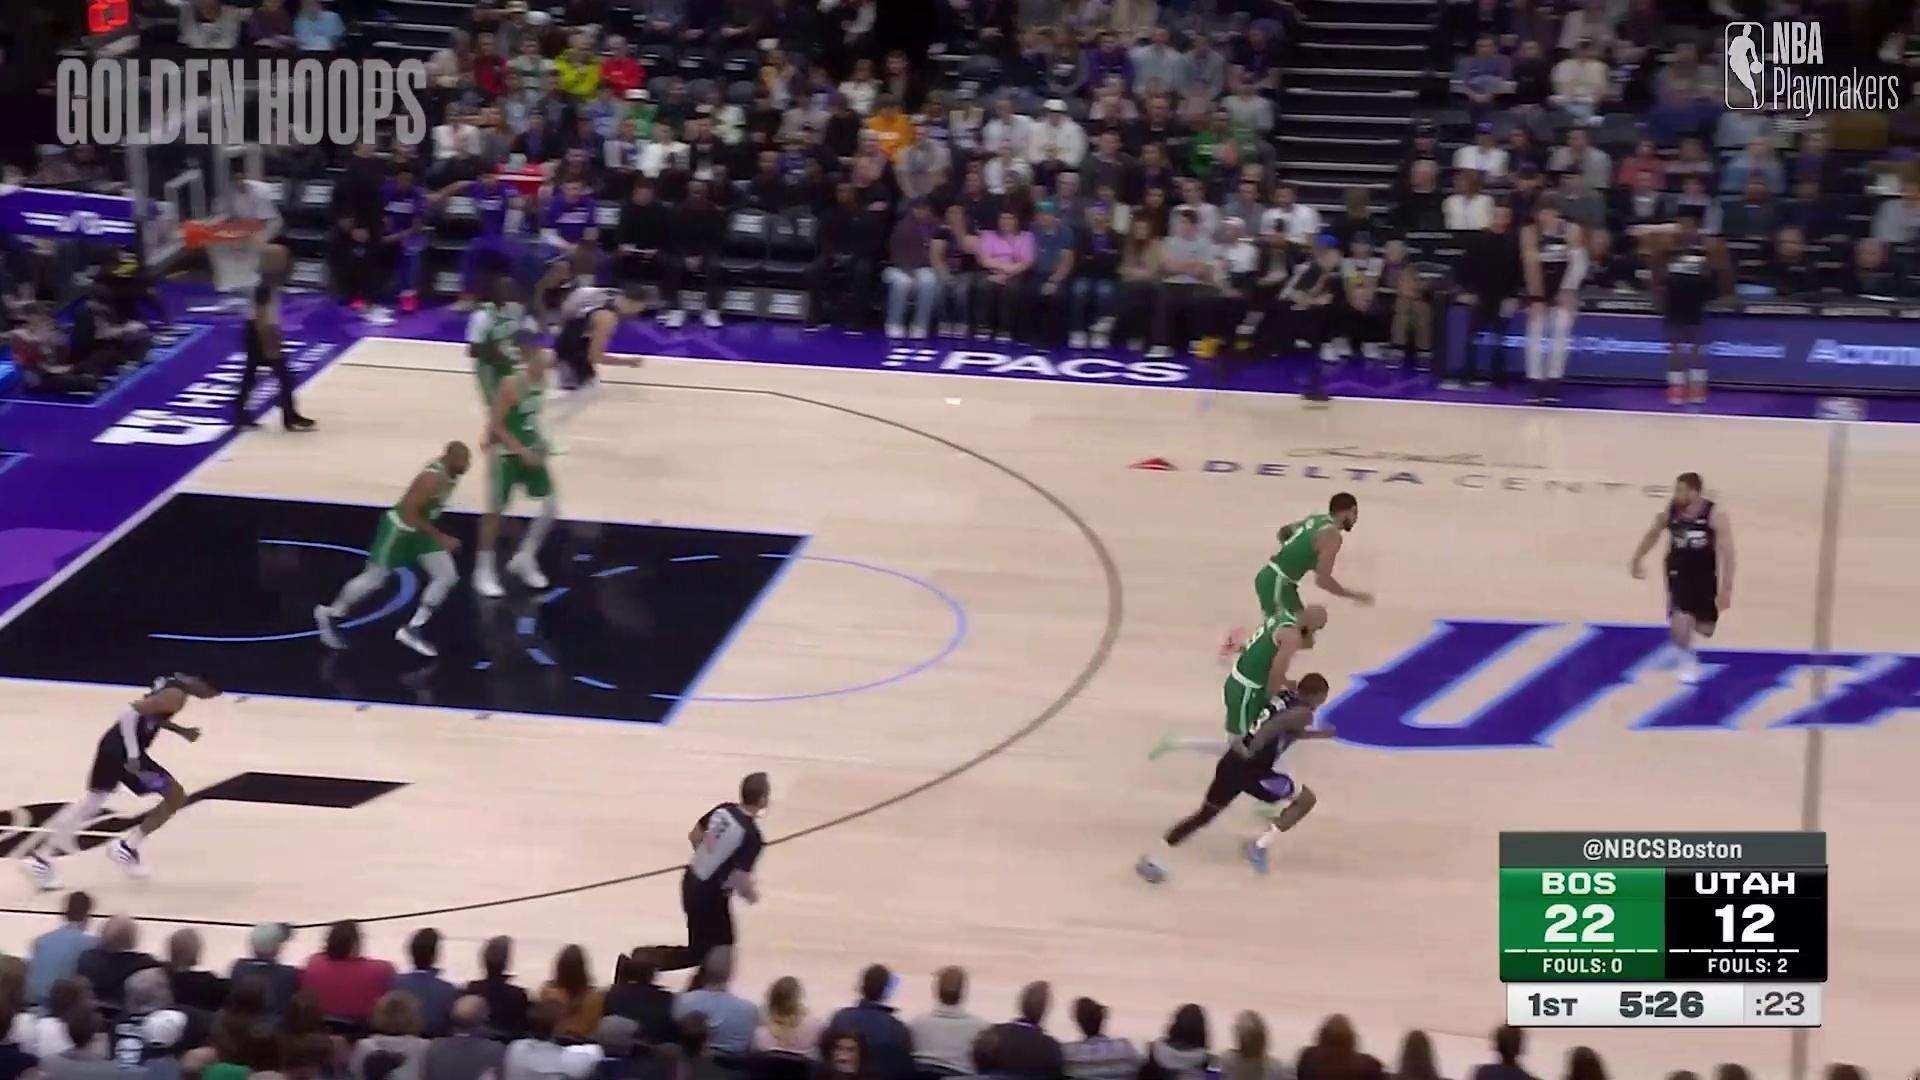hoop: (204, 208, 270, 297)
